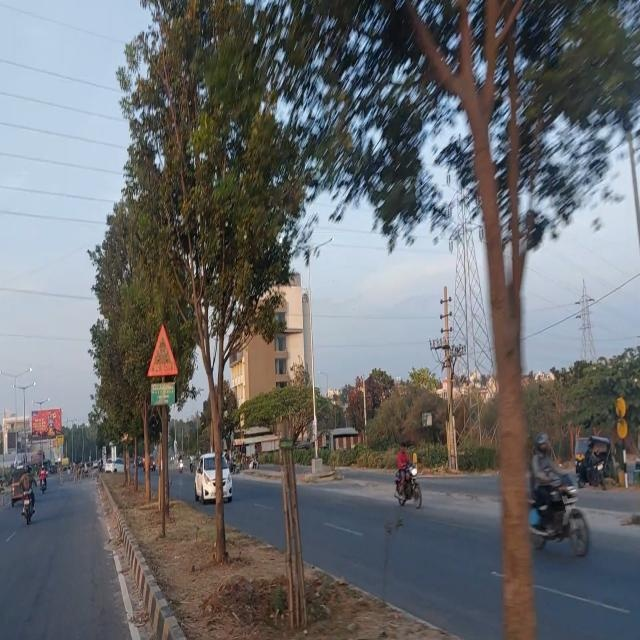bien_nguy_hiem: (149, 321, 178, 381)
